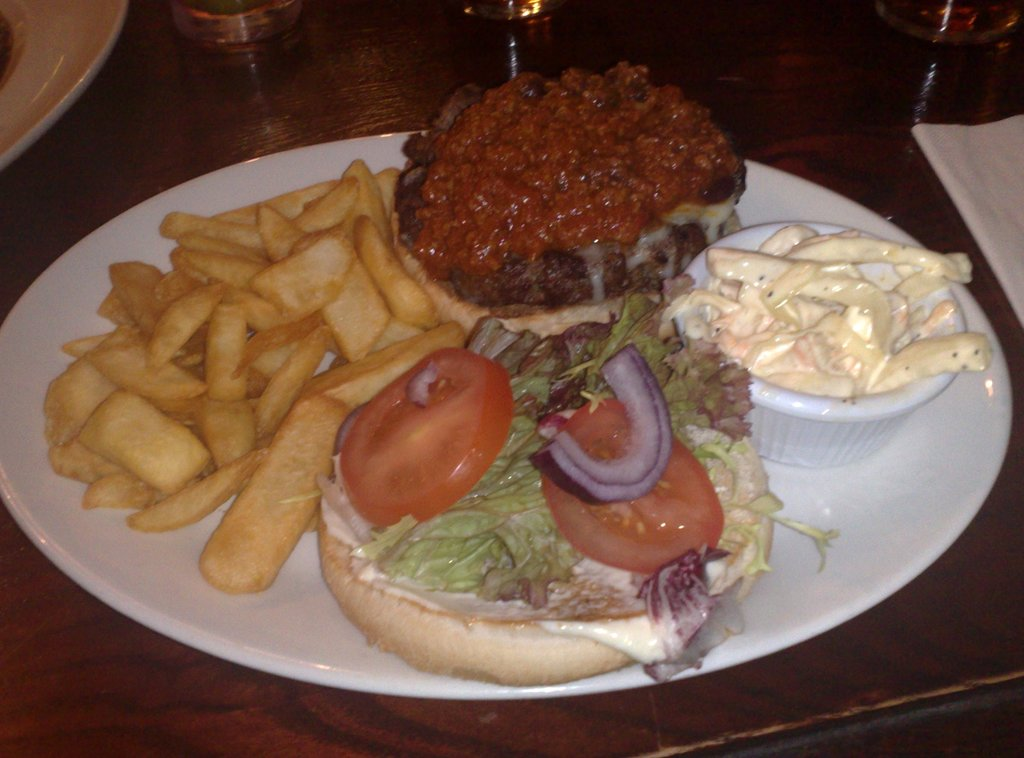French fries: (56, 174, 430, 583)
